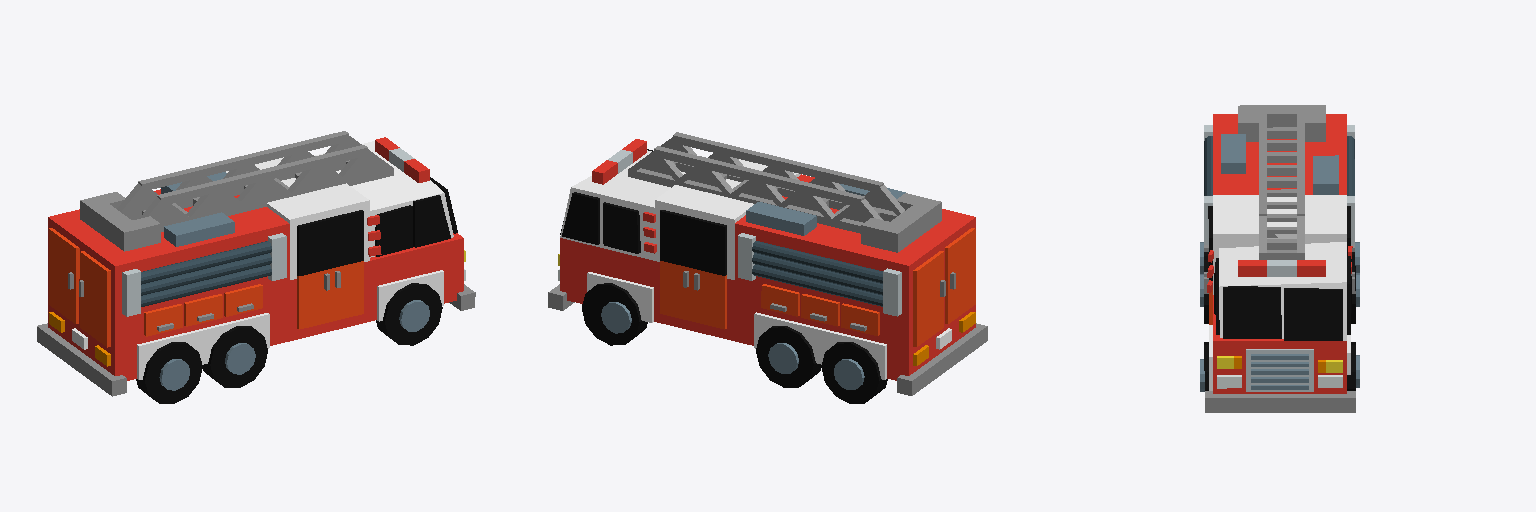
The model's file is vehicle_firetruck.obj.
The picture shows the model from 3 angles: view 1: azimuth 30°, elevation 25°; view 2: azimuth 150°, elevation 25°; view 3: azimuth 270°, elevation 25°; orthographic projection.
Parts seen in each view (by area): view 1: firetruck_mesh[number redacted]; view 2: firetruck_mesh[number redacted]; view 3: firetruck_mesh[number redacted].
Boxes of the visible parts, x1=… form: firetruck_mesh[number redacted]: x1=37, y1=131, x2=475, y2=403; firetruck_mesh[number redacted]: x1=548, y1=132, x2=987, y2=403; firetruck_mesh[number redacted]: x1=1200, y1=105, x2=1359, y2=412.
Size of the model in its own units: 4.68 by 2.25 by 1.78.